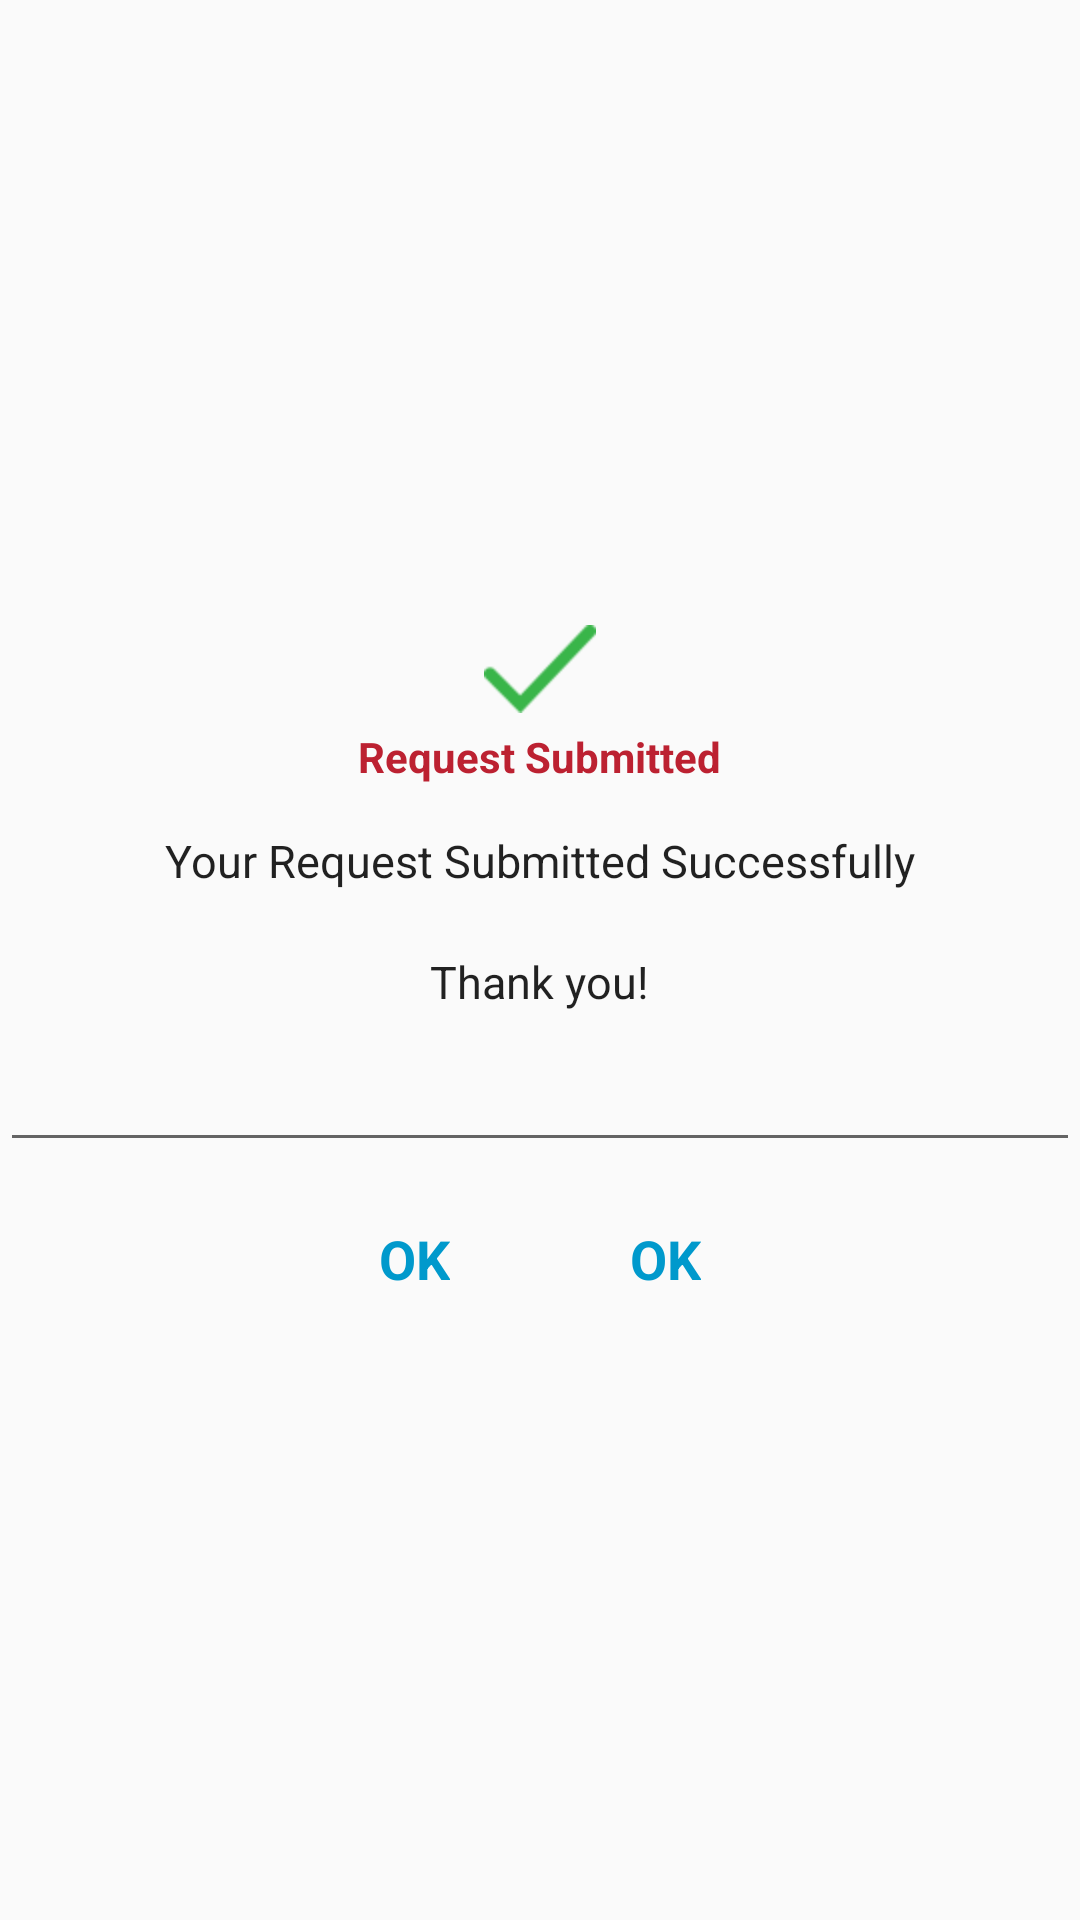

Point at icon controls on the screen. Image size 1080*1920, points as [x,y].
tick: [540,669]
